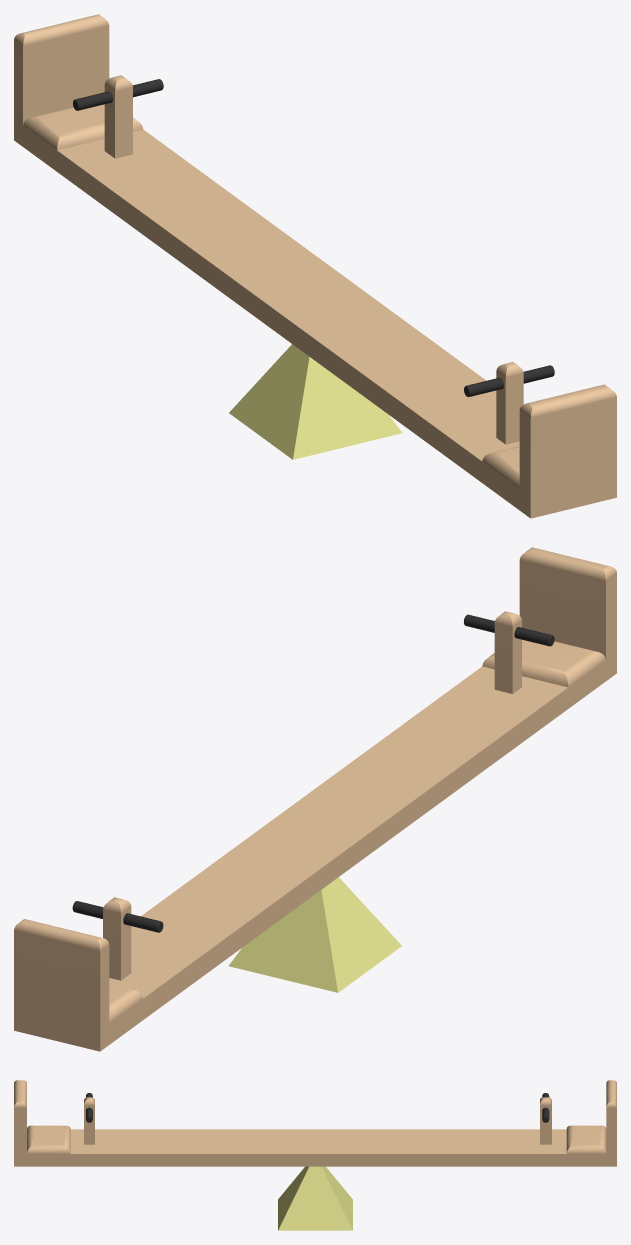
Rendered from SeeSaw.fbx.
The picture shows the model from 3 angles, top to bottom: view 1: azimuth 30°, elevation 25°; view 2: azimuth 150°, elevation 25°; view 3: azimuth 270°, elevation 25°; orthographic projection. The views are drawn at different scales.
Parts seen in each view (by area): view 1: polySurface3; view 2: polySurface3; view 3: polySurface3.
Boxes of the visible parts, x1,y1,x2,y2 form: polySurface3: (14,14,616,518); polySurface3: (14,547,616,1051); polySurface3: (14,1080,616,1230).
Size of the model in its own units: 1.27 by 2.36 by 10.39.
